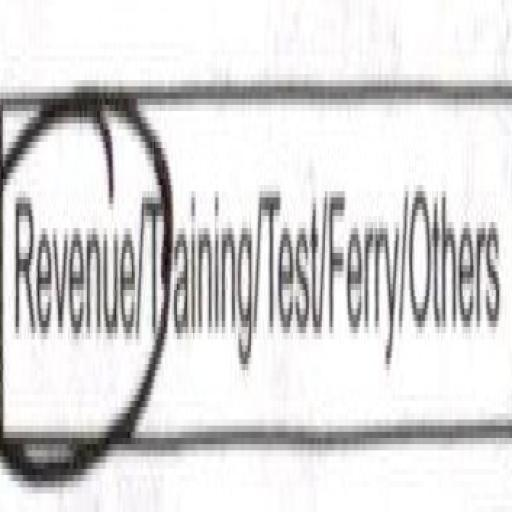check: (0, 74, 142, 512)
